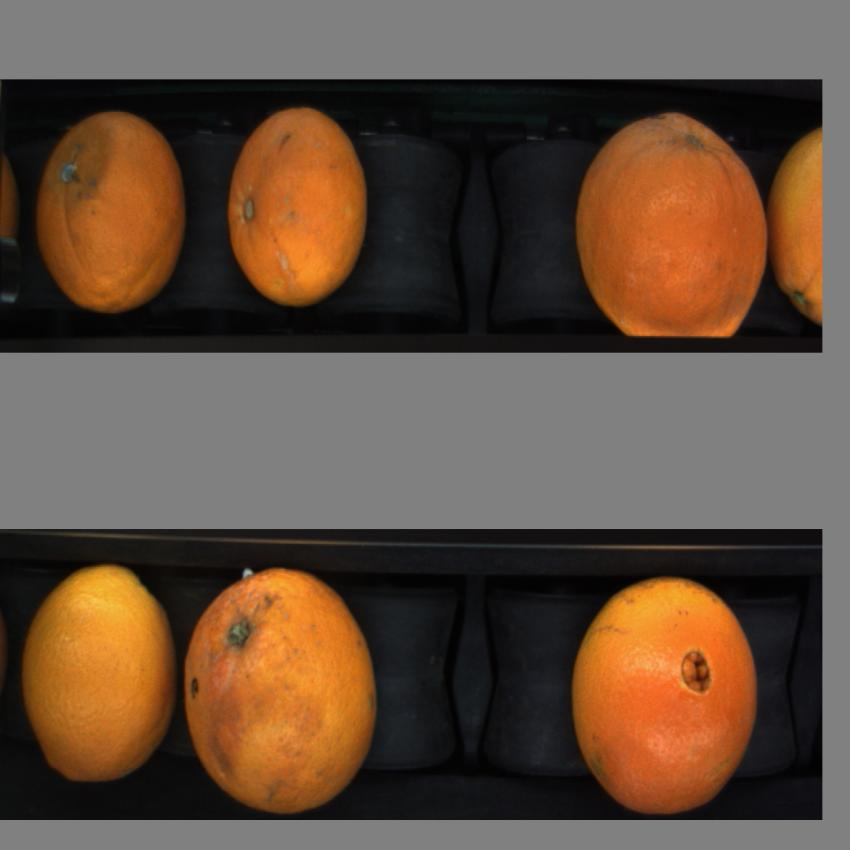Buen estado: (563, 568, 767, 823), (18, 563, 178, 792), (221, 98, 375, 309), (769, 125, 823, 336)
Mal estado: (182, 558, 385, 818), (566, 103, 770, 349), (29, 107, 196, 325)
